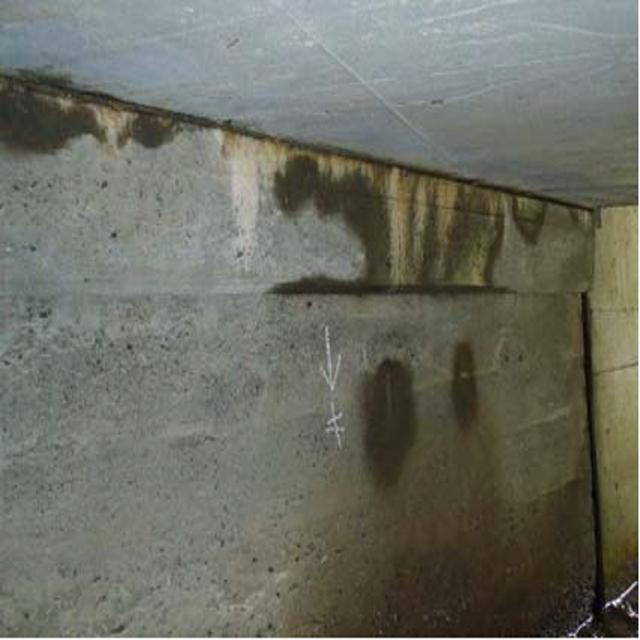leakage: (230, 123, 603, 296), (10, 59, 200, 177), (353, 343, 487, 487)
